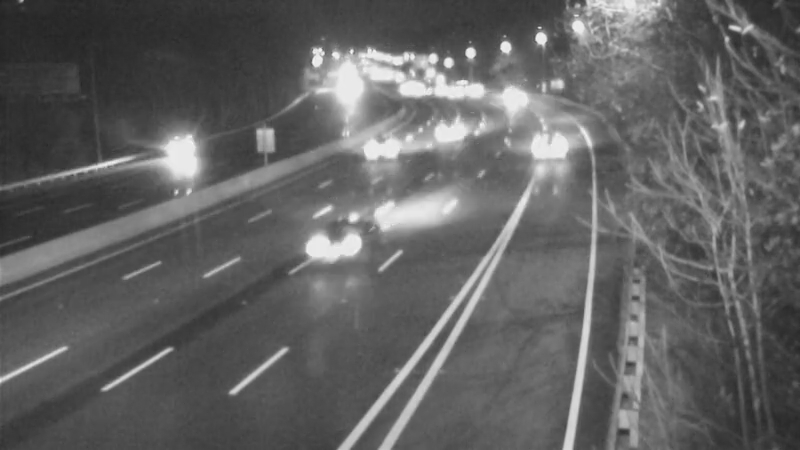vehicle: (297, 210, 377, 290), (131, 118, 211, 198), (431, 63, 481, 113), (380, 64, 430, 114), (454, 66, 504, 116), (481, 69, 531, 119), (431, 108, 481, 158), (525, 118, 575, 168), (361, 123, 411, 173)
